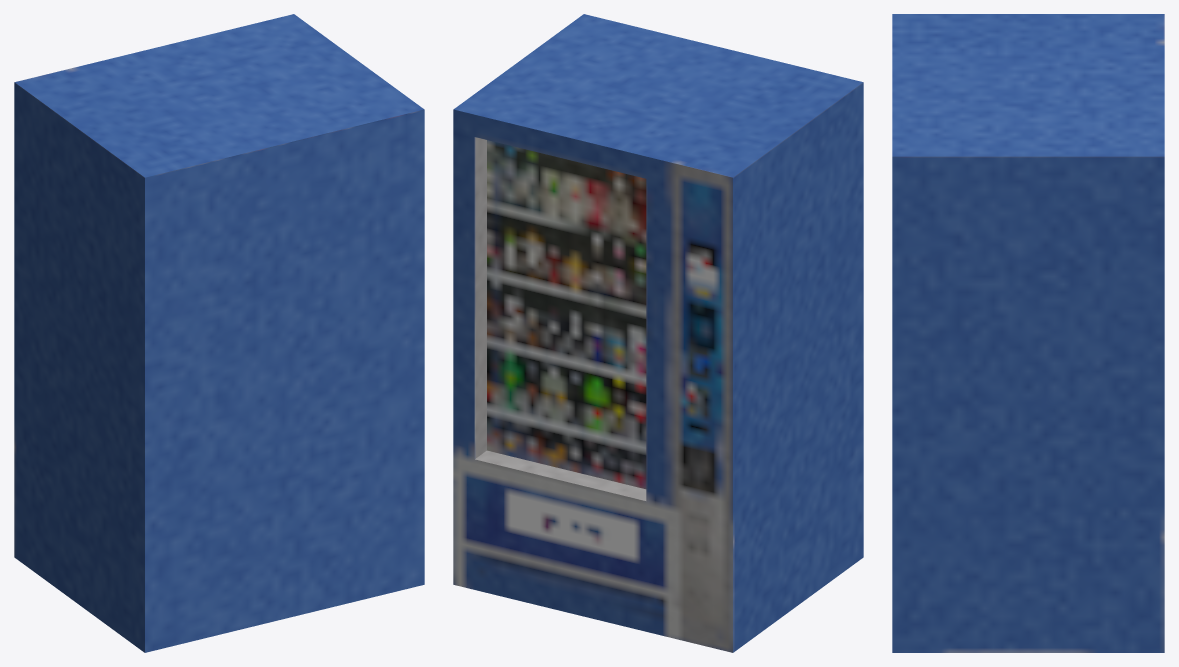
Rendered from vending1.glb.
3 renders of one model, left to right at view 1: azimuth 30°, elevation 25°; view 2: azimuth 150°, elevation 25°; view 3: azimuth 270°, elevation 25°, orthographic. The views are drawn at different scales.
Parts seen in each view (by area): view 1: Vending-Machine; view 2: Vending-Machine; view 3: Vending-Machine.
Boxes of the visible parts, box(x1,y1,x2,y2) form: Vending-Machine: box(14, 14, 424, 652); Vending-Machine: box(453, 14, 863, 652); Vending-Machine: box(892, 14, 1164, 652).
Size of the model in its own units: 1.51 by 2.45 by 1.22.
Materials: 1 (1 with a texture image).
